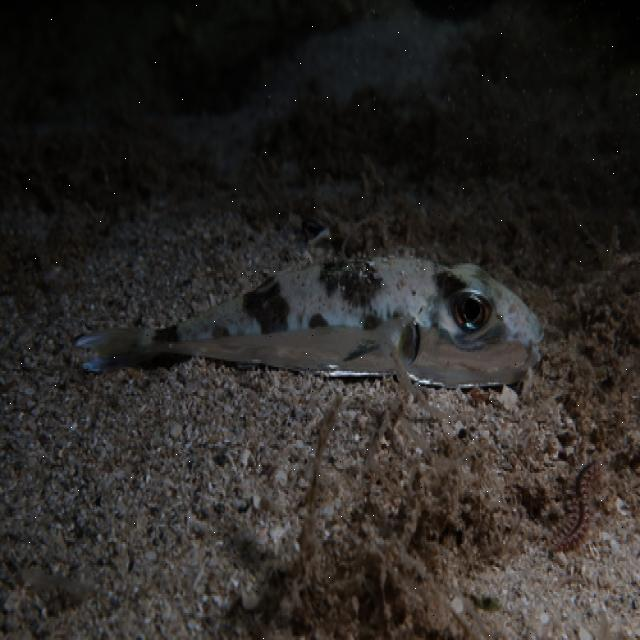Balik: (76, 258, 542, 386)
